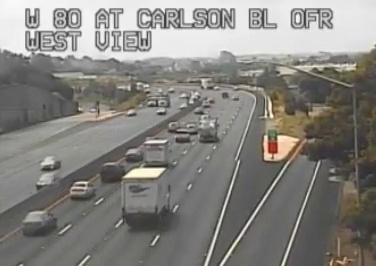car: (22, 211, 57, 233), (101, 163, 125, 183), (70, 181, 94, 199), (124, 148, 143, 162)
small-truck: (120, 168, 169, 224), (142, 139, 169, 168)
